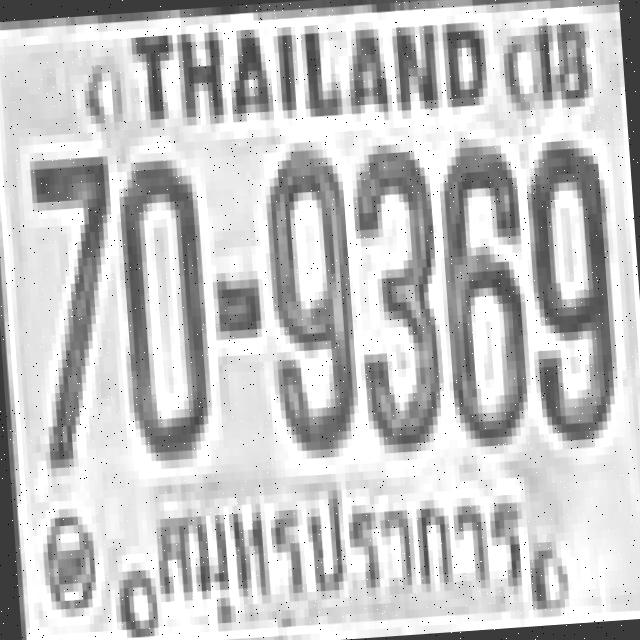0: (112, 150, 210, 454)
3: (345, 142, 443, 446)
6: (432, 136, 530, 440)
7: (24, 148, 124, 460)
9: (258, 140, 356, 452), (518, 130, 616, 442)
SamutPrakan: (144, 464, 536, 633)
